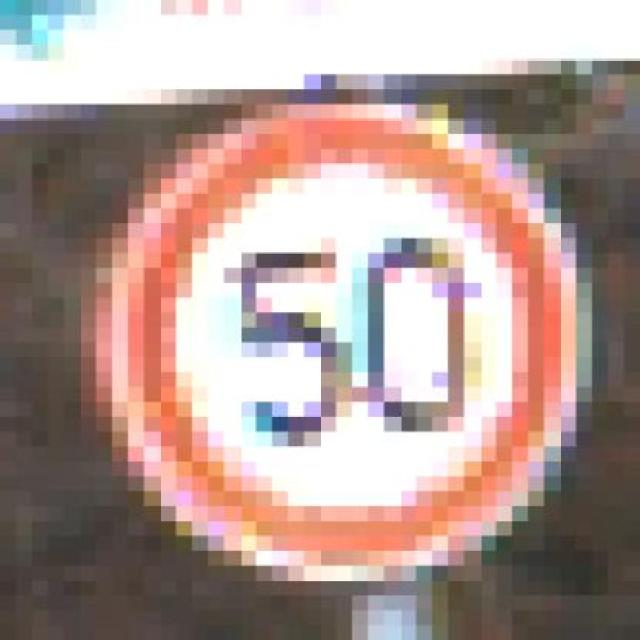50 mph speed limit: (64, 89, 591, 580)
